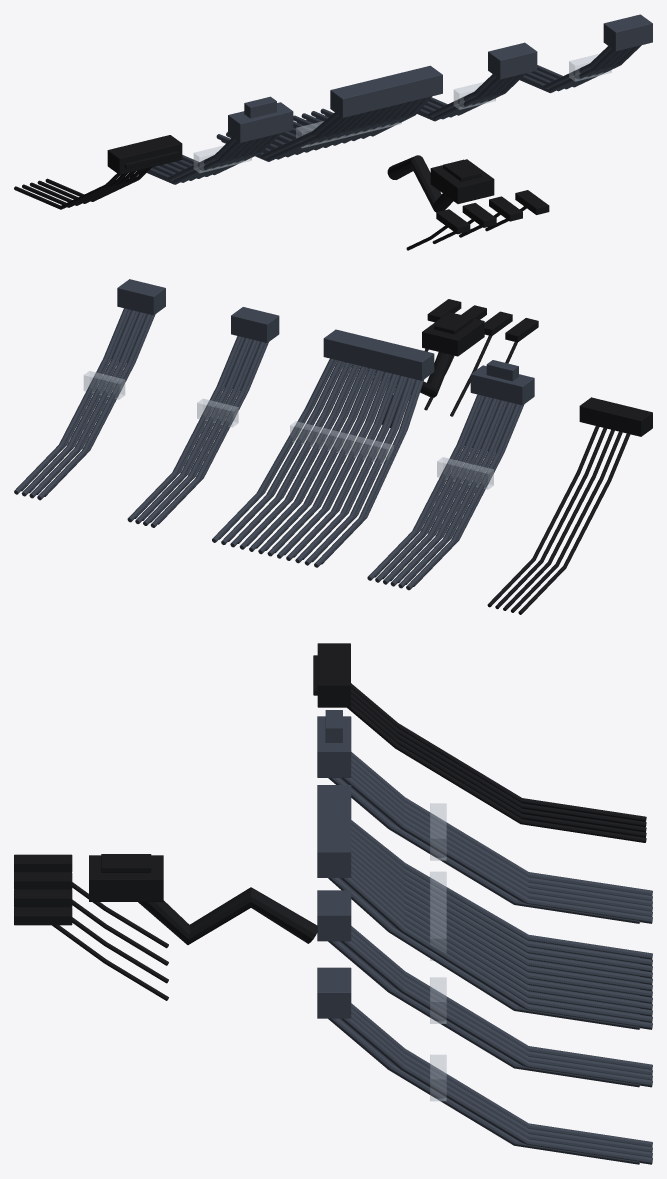
Rendered from cables.lod0.glb.
3 views of the same model, one above another, from view 1: azimuth 30°, elevation 25°; view 2: azimuth 150°, elevation 25°; view 3: azimuth 270°, elevation 25° (orthographic). The views are drawn at different scales.
Visible parts, largest first — view 1: P01_atx_24pin_cable, P03_pcie_12vhpwr_cable, P05_sata_power_cable, P04_pcie_8pin_cable, P06_sata_data_cable, P02_eps_8pin_cable, P07_front_panel_harness, P08_cable_combs; view 2: P01_atx_24pin_cable, P03_pcie_12vhpwr_cable, P04_pcie_8pin_cable, P02_eps_8pin_cable, P05_sata_power_cable, P08_cable_combs, P06_sata_data_cable, P07_front_panel_harness; view 3: P01_atx_24pin_cable, P03_pcie_12vhpwr_cable, P04_pcie_8pin_cable, P02_eps_8pin_cable, P05_sata_power_cable, P06_sata_data_cable, P07_front_panel_harness, P08_cable_combs.
Boxes of the visible parts, bbox=[...] form: P01_atx_24pin_cable: bbox=[216, 65, 442, 161]; P03_pcie_12vhpwr_cable: bbox=[143, 96, 293, 184]; P05_sata_power_cable: bbox=[14, 135, 182, 209]; P04_pcie_8pin_cable: bbox=[520, 14, 652, 93]; P06_sata_data_cable: bbox=[387, 155, 494, 212]; P02_eps_8pin_cable: bbox=[417, 42, 537, 121]; P07_front_panel_harness: bbox=[406, 190, 549, 250]; P08_cable_combs: bbox=[193, 53, 611, 172]; P01_atx_24pin_cable: bbox=[212, 329, 434, 567]; P03_pcie_12vhpwr_cable: bbox=[367, 360, 534, 590]; P04_pcie_8pin_cable: bbox=[14, 279, 165, 500]; P02_eps_8pin_cable: bbox=[127, 307, 279, 527]; P05_sata_power_cable: bbox=[487, 397, 652, 614]; P08_cable_combs: bbox=[83, 371, 493, 489]; P06_sata_data_cable: bbox=[382, 312, 484, 427]; P07_front_panel_harness: bbox=[424, 299, 538, 416]; P01_atx_24pin_cable: bbox=[317, 785, 652, 1029]; P03_pcie_12vhpwr_cable: bbox=[317, 710, 652, 923]; P04_pcie_8pin_cable: bbox=[317, 967, 652, 1164]; P02_eps_8pin_cable: bbox=[317, 890, 652, 1087]; P05_sata_power_cable: bbox=[313, 643, 646, 842]; P06_sata_data_cable: bbox=[89, 854, 317, 944]; P07_front_panel_harness: bbox=[14, 854, 168, 1000]; P08_cable_combs: bbox=[430, 803, 446, 1101].
Bounding box in the file's own units: 203 × 50.83 × 154.
